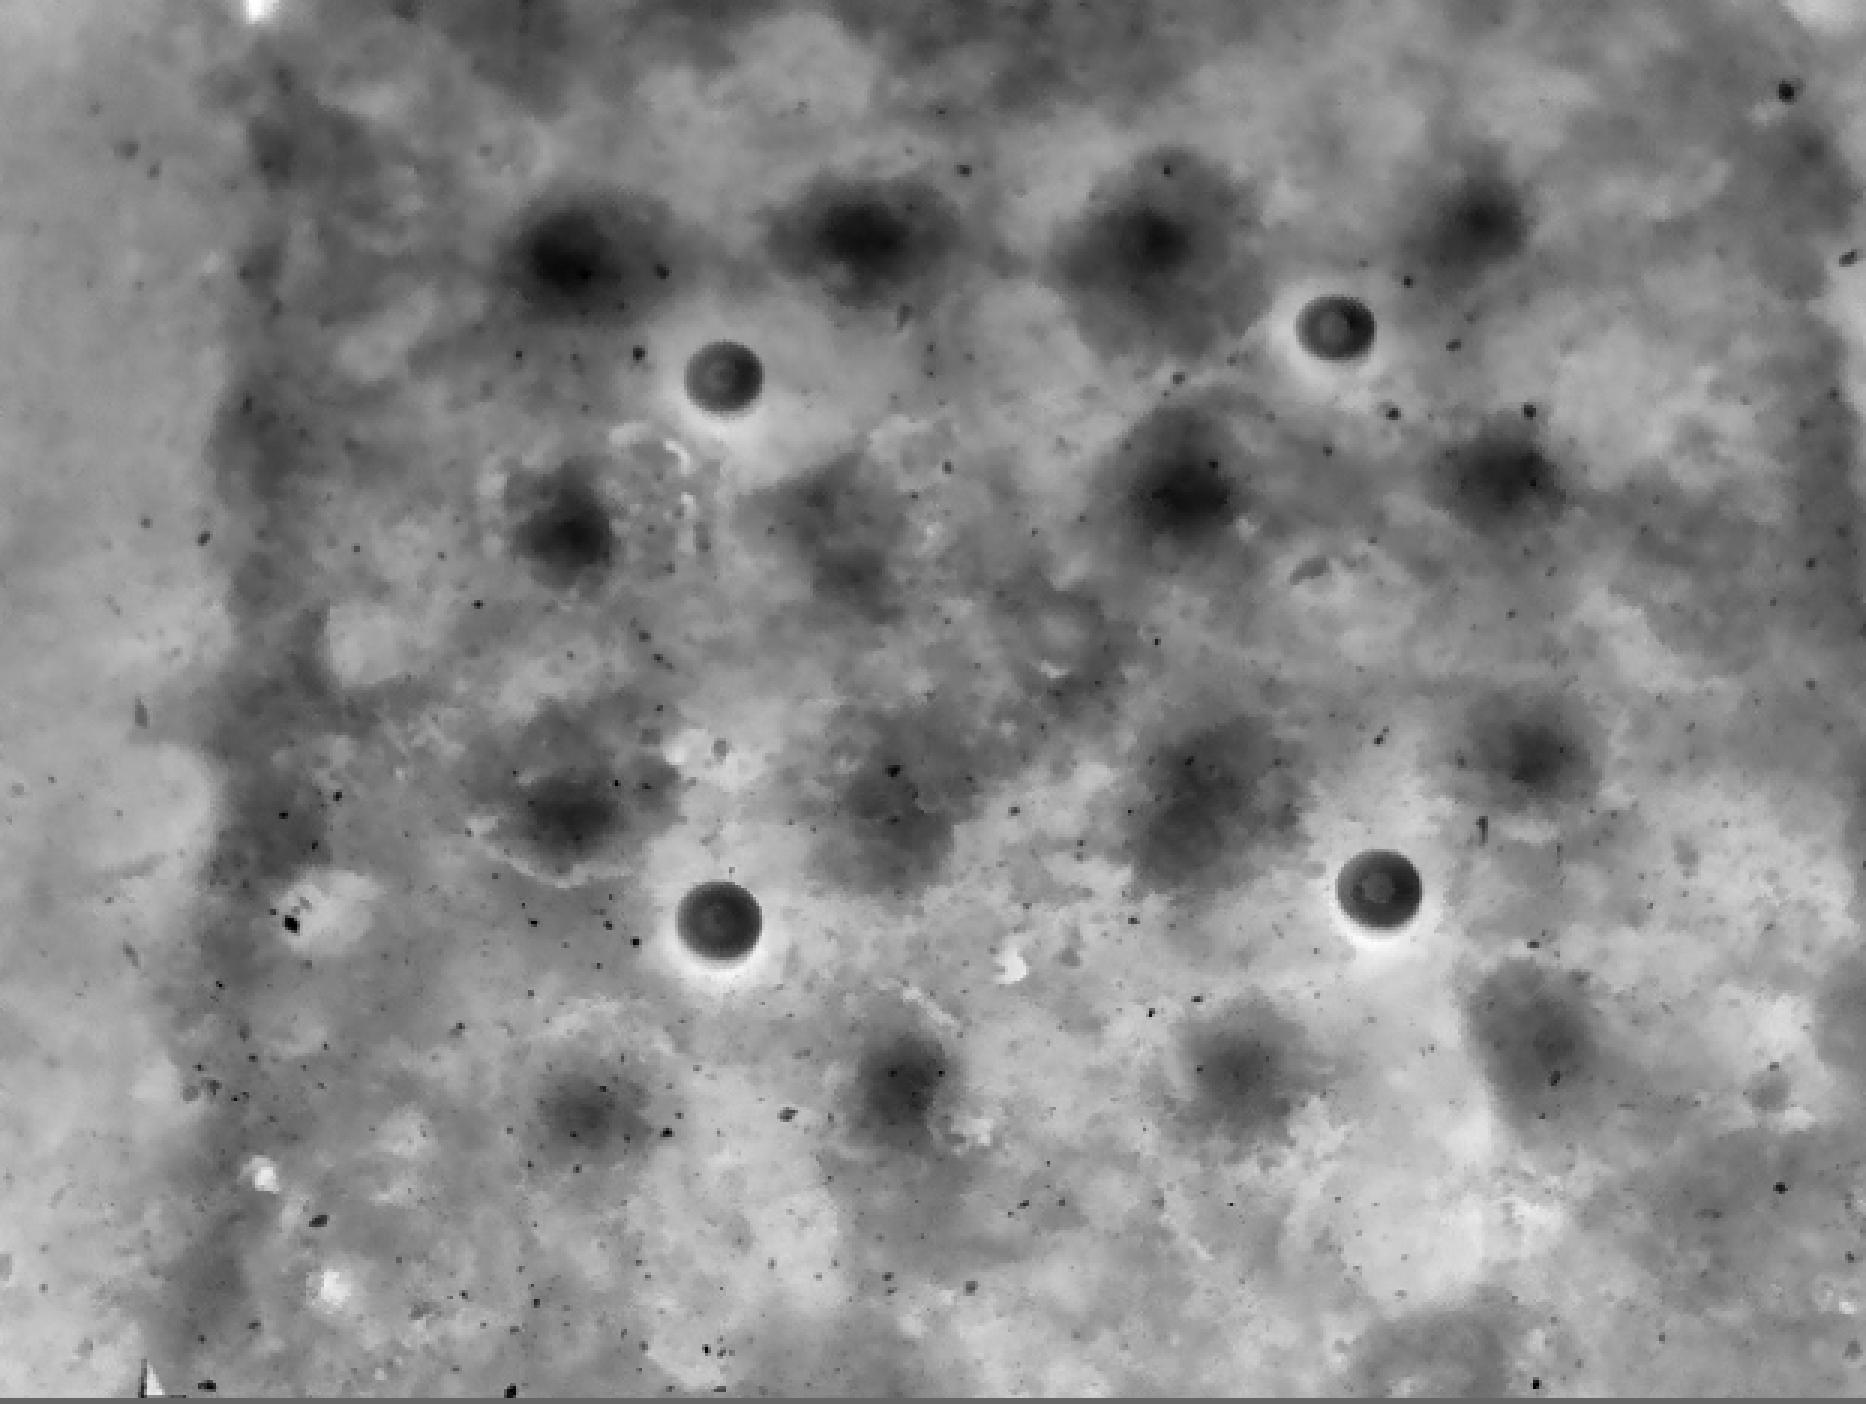mines-gjV8: (676, 888, 771, 978), (1338, 845, 1423, 931), (687, 342, 766, 419), (1298, 298, 1376, 372)
